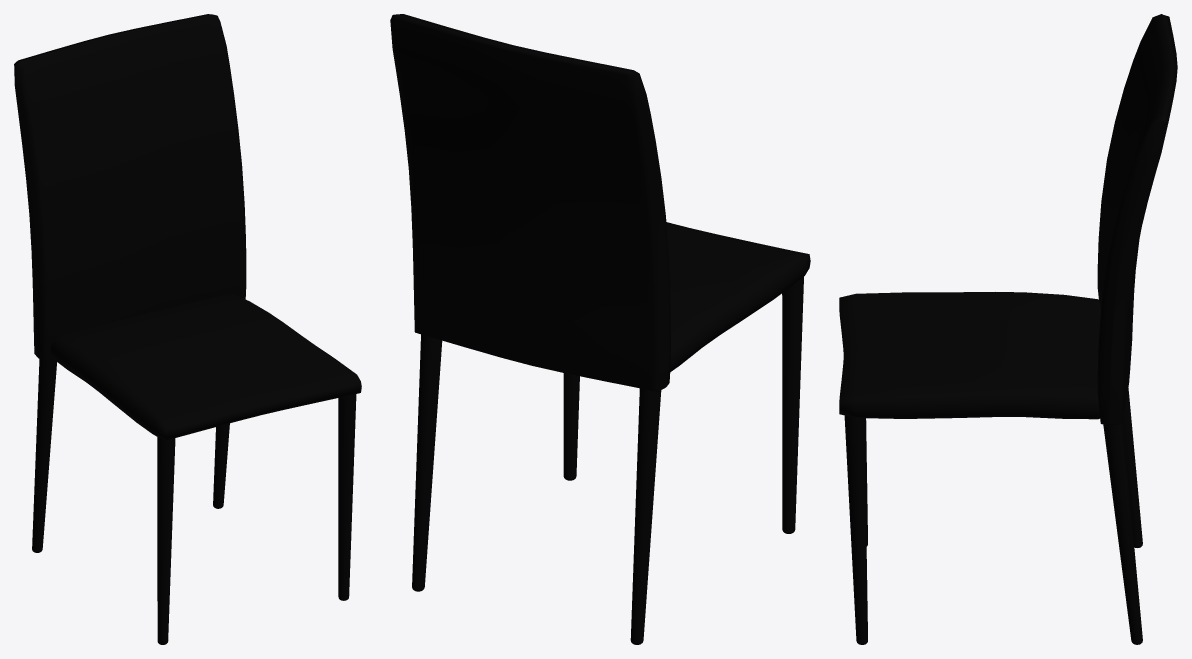
File: chair_53_05.001.fbx
3 views of the same model, side by side, from view 1: azimuth 30°, elevation 25°; view 2: azimuth 150°, elevation 25°; view 3: azimuth 270°, elevation 25° (orthographic). The views are drawn at different scales.
Parts seen in each view (by area): view 1: chair_53_05.001; view 2: chair_53_05.001; view 3: chair_53_05.001.
Part boxes in pixels (bbox=[...]): chair_53_05.001: bbox=[14, 14, 361, 644]; chair_53_05.001: bbox=[390, 14, 810, 644]; chair_53_05.001: bbox=[839, 14, 1177, 644].
Bounding box in the file's own units: 41.99 × 92.09 × 53.32.
1 material, 1 textured.
